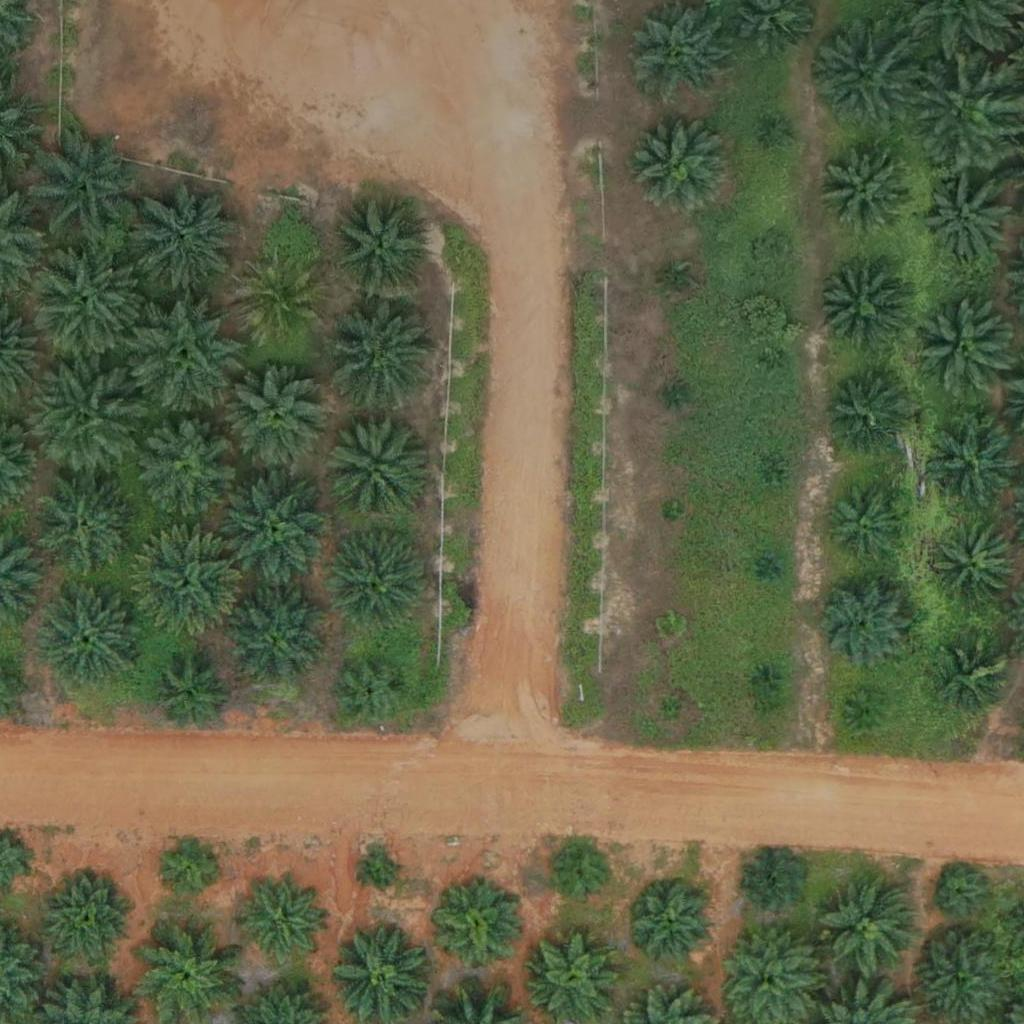Kelapa_Sawit: (808, 19, 921, 133), (132, 182, 245, 296), (130, 298, 243, 412), (30, 133, 143, 247), (219, 471, 332, 584), (911, 53, 1023, 167), (30, 239, 142, 353), (132, 532, 244, 645), (808, 568, 920, 681), (327, 297, 439, 410), (27, 364, 139, 477), (914, 298, 1014, 399), (922, 410, 1022, 511), (629, 2, 729, 103), (627, 110, 727, 211), (329, 197, 429, 298), (226, 589, 326, 690), (35, 480, 135, 581), (39, 587, 139, 688), (819, 877, 919, 978), (324, 417, 424, 517), (329, 531, 429, 631), (230, 370, 330, 470), (136, 420, 236, 520), (332, 923, 432, 1023), (826, 479, 914, 568), (823, 371, 911, 459), (932, 523, 1020, 611), (235, 260, 323, 348), (237, 878, 325, 966), (530, 933, 618, 1021), (629, 882, 717, 970), (924, 176, 1011, 264), (824, 143, 911, 231), (817, 265, 904, 353), (49, 875, 136, 963), (436, 887, 523, 975), (335, 653, 410, 729), (939, 641, 1014, 716), (153, 659, 228, 734), (741, 852, 804, 915), (156, 833, 218, 896), (551, 845, 613, 908), (936, 869, 986, 919), (755, 235, 793, 273), (848, 690, 886, 728), (363, 853, 400, 891), (768, 120, 793, 145), (764, 350, 789, 375), (758, 466, 783, 491), (664, 270, 689, 295), (664, 383, 689, 408), (660, 501, 685, 526), (656, 613, 681, 638), (659, 697, 684, 722), (759, 555, 784, 580), (752, 665, 777, 690)
